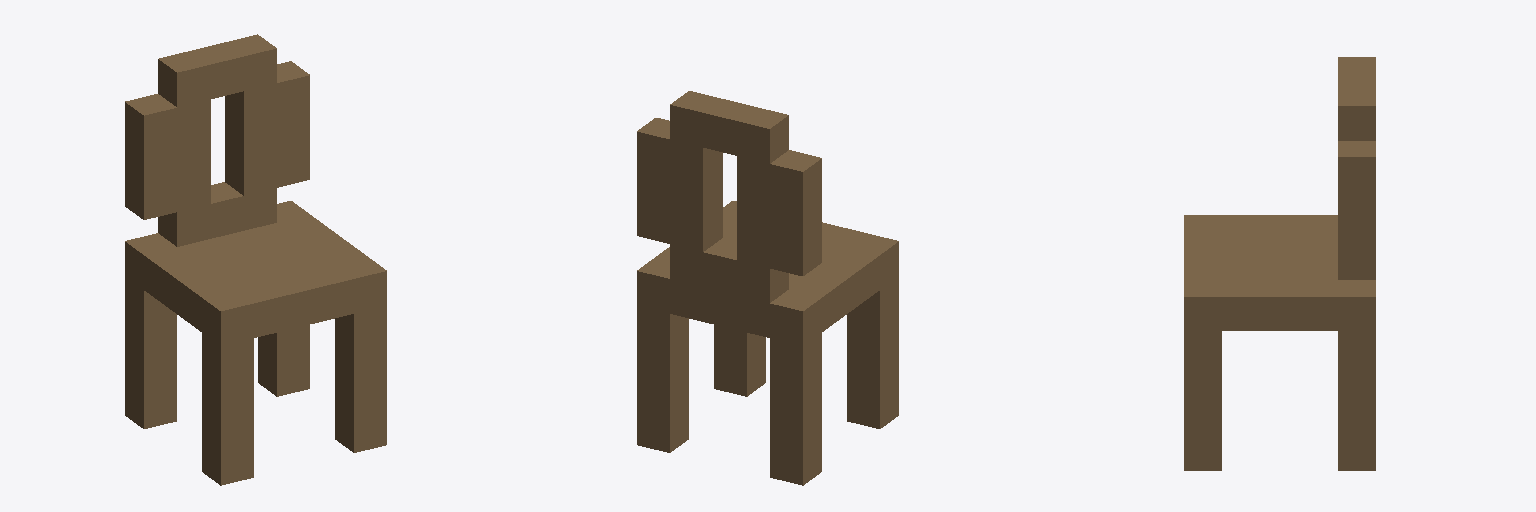
3 views of the same model, side by side, from view 1: azimuth 30°, elevation 25°; view 2: azimuth 150°, elevation 25°; view 3: azimuth 270°, elevation 25° (orthographic).
Parts seen in each view (by area): view 1: Chair1; view 2: Chair1; view 3: Chair1.
Boxes of the visible parts, x1,y1,x2,y2 form: Chair1: [125, 34, 386, 485]; Chair1: [637, 91, 898, 485]; Chair1: [1184, 57, 1375, 470].
Bounding box in the file's own units: 5 × 10 × 5.
1 materials, 1 textured.